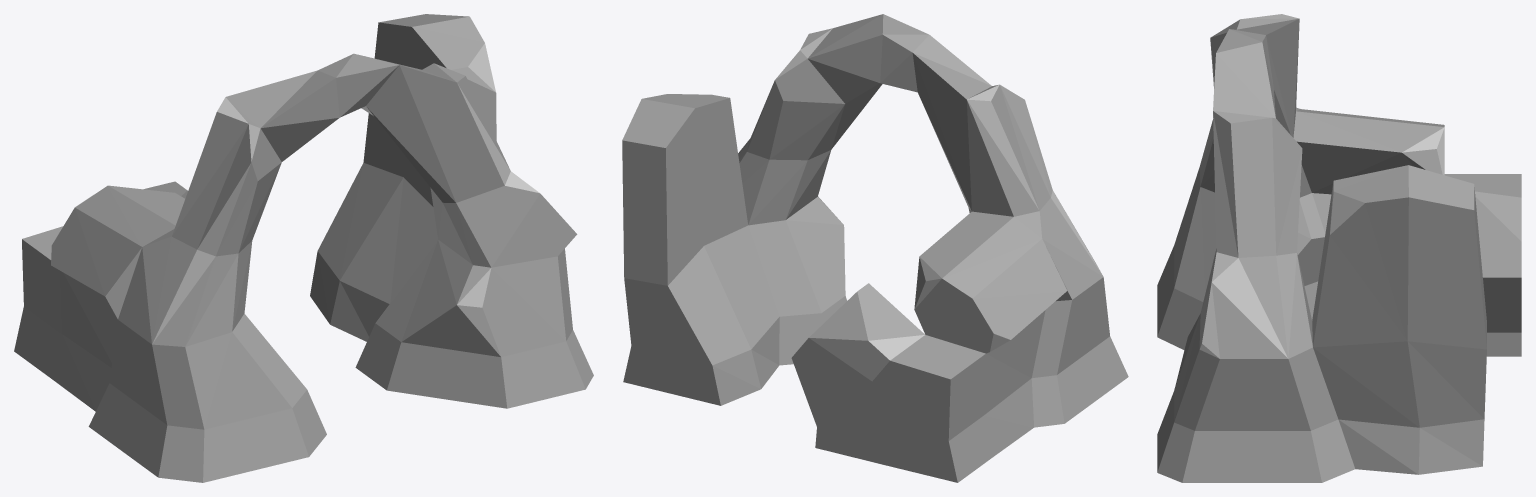
Rendered from ruin_2.fbx.
The picture shows the model from 3 angles, left to right: view 1: azimuth 30°, elevation 25°; view 2: azimuth 150°, elevation 25°; view 3: azimuth 270°, elevation 25°; orthographic projection. The views are drawn at different scales.
Parts seen in each view (by area): view 1: ruin_2; view 2: ruin_2; view 3: ruin_2.
Boxes of the visible parts, x1,y1,x2,y2 form: ruin_2: [14, 14, 593, 482]; ruin_2: [622, 14, 1128, 482]; ruin_2: [1157, 14, 1521, 482].
Bounding box in the file's own units: 183 × 139 × 134.
